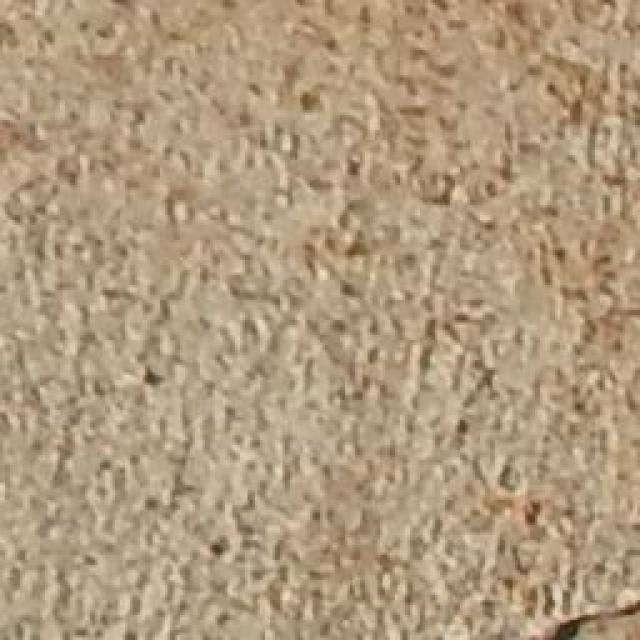concrete-crack: (537, 591, 640, 640)
